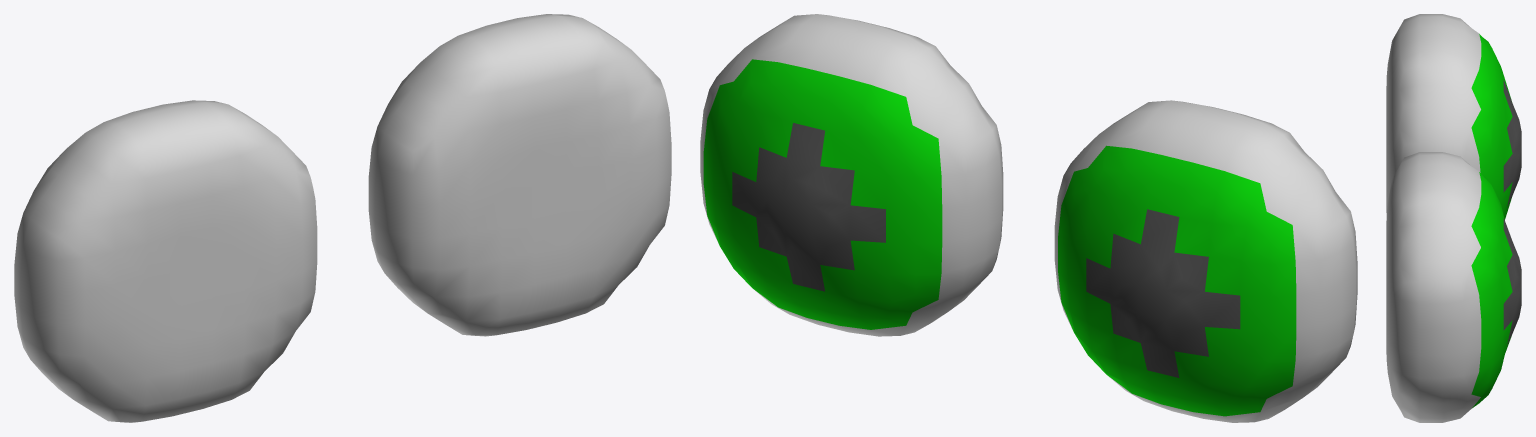
3 renders of one model, left to right at view 1: azimuth 30°, elevation 25°; view 2: azimuth 150°, elevation 25°; view 3: azimuth 270°, elevation 25°, orthographic. The views are drawn at different scales.
Bounding box in the file's own units: 0.9859 × 0.4359 × 0.2282.
